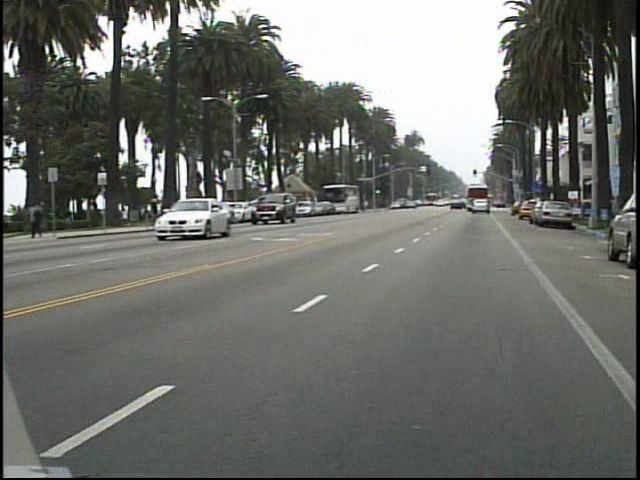person: (33, 195, 55, 240), (152, 191, 171, 226)
